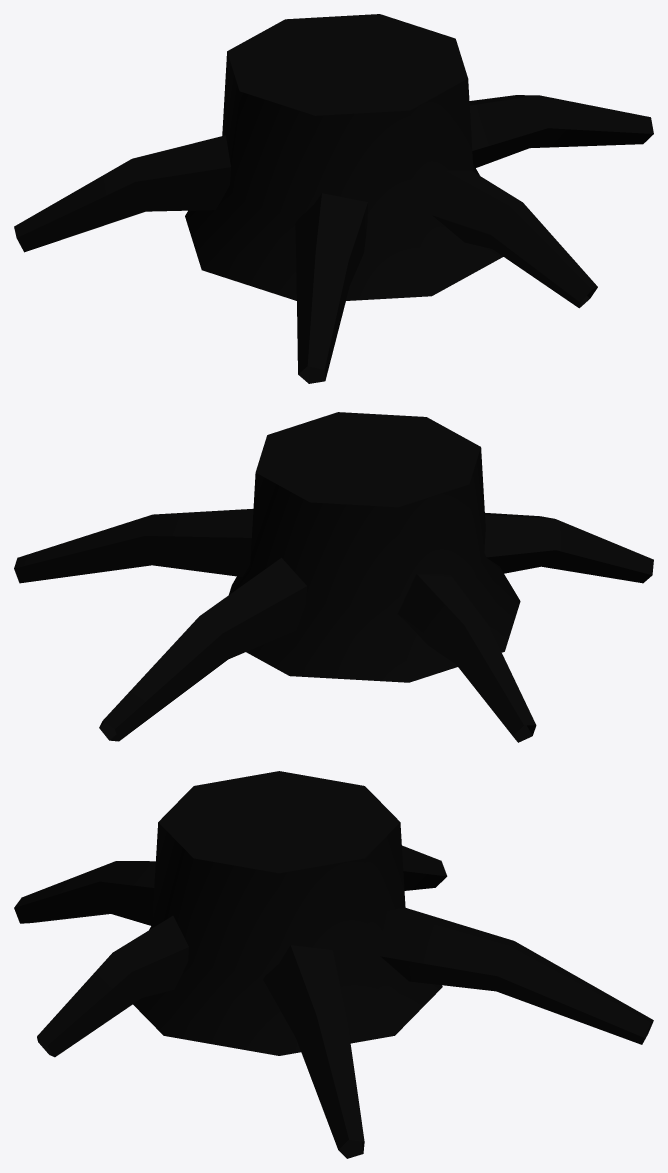
File: SM_stump.fbx
3 views of the same model, one above another, from view 1: azimuth 30°, elevation 25°; view 2: azimuth 150°, elevation 25°; view 3: azimuth 270°, elevation 25° (orthographic). The views are drawn at different scales.
Visible parts, largest first — view 1: stump; view 2: stump; view 3: stump.
Boxes of the visible parts, bbox=[...] form: stump: bbox=[14, 14, 653, 383]; stump: bbox=[14, 412, 653, 742]; stump: bbox=[14, 771, 653, 1158].
Bounding box in the file's own units: 1.65 × 0.492 × 1.58.
